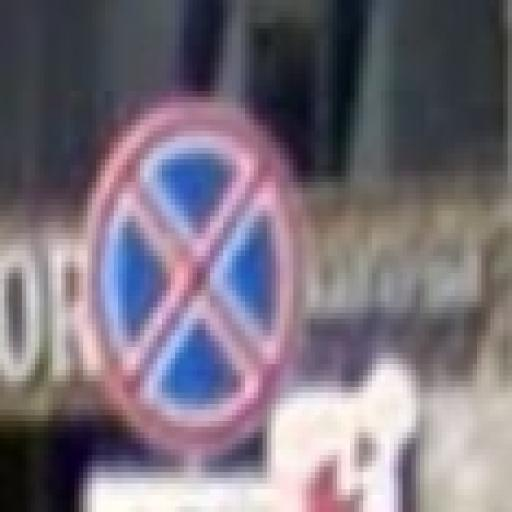traffic_sign: (80, 92, 312, 462)
